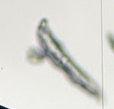microplastic: (28, 19, 101, 97)
